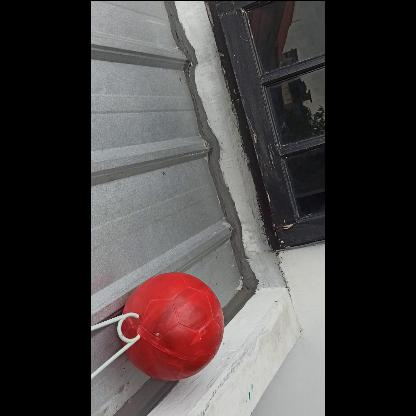red_ball: (118, 272, 224, 376)
